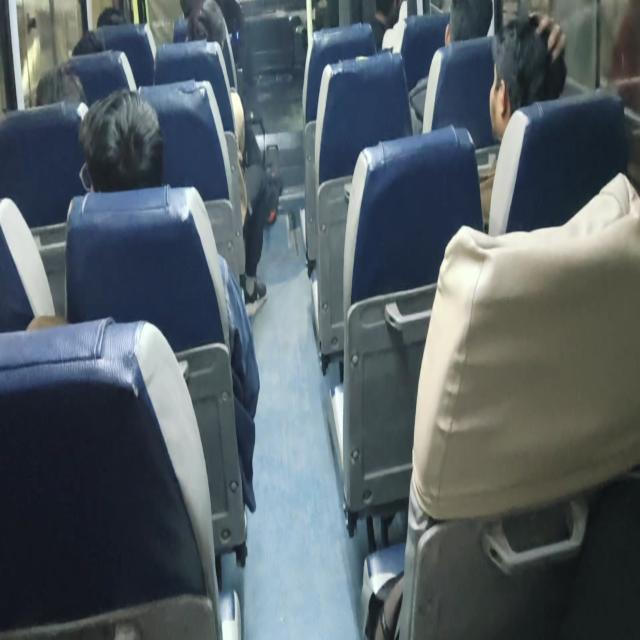person: (74, 86, 260, 513), (182, 0, 282, 313), (477, 10, 567, 226), (408, 0, 494, 133), (78, 87, 164, 193), (444, 0, 494, 46)
